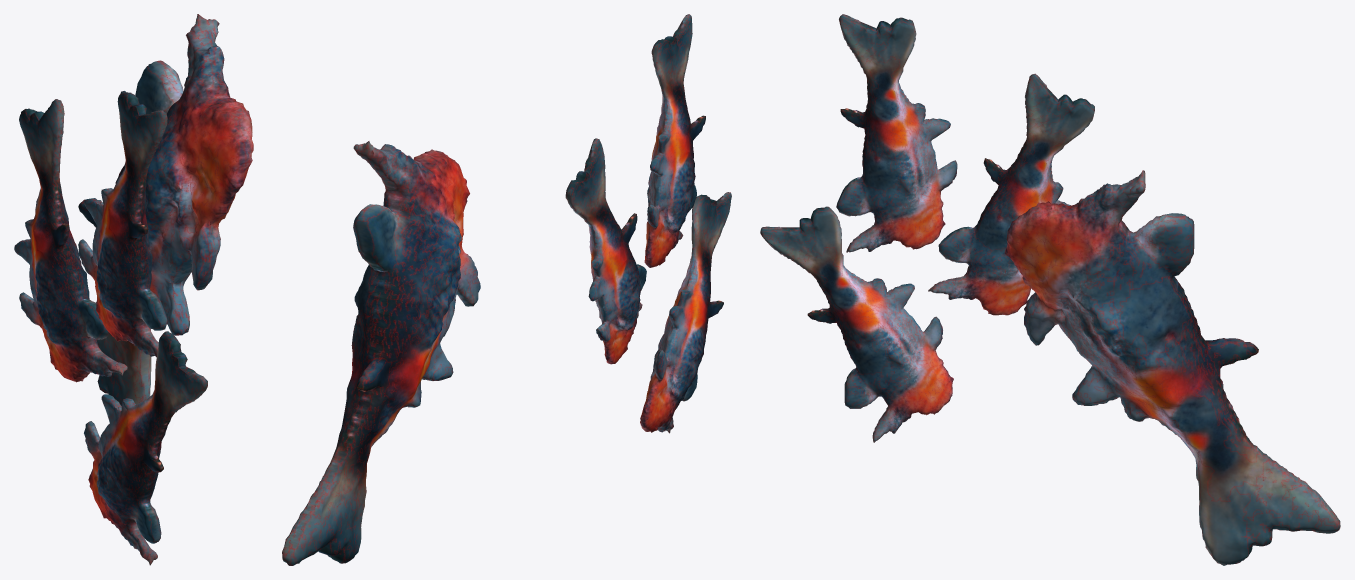
File: fish_3.glb
The picture shows the model from 3 angles, left to right: view 1: azimuth 30°, elevation 25°; view 2: azimuth 150°, elevation 25°; view 3: azimuth 270°, elevation 25°; orthographic projection. The views are drawn at different scales.
Visible parts, largest first — view 1: model.005, model.002, model.003, model.001; view 2: model.005, model.001, model.003, model.002; view 3: model.005, model.001, model.003, model.002.
Part boxes in pixels (box(x1,y1,x2,y2)): model.005: box(78, 14, 253, 405); model.002: box(14, 99, 127, 382); model.003: box(78, 91, 167, 357); model.001: box(84, 331, 207, 565); model.005: box(282, 141, 480, 565); model.001: box(640, 192, 731, 433); model.003: box(644, 14, 705, 267); model.002: box(565, 138, 646, 364); model.005: box(1004, 170, 1340, 565); model.001: box(760, 206, 953, 442); model.003: box(836, 14, 957, 252); model.002: box(928, 73, 1094, 315).
Size of the model in its own units: 0.4298 by 0.8404 by 0.9422.
Materials: 4 (4 with a texture image).
